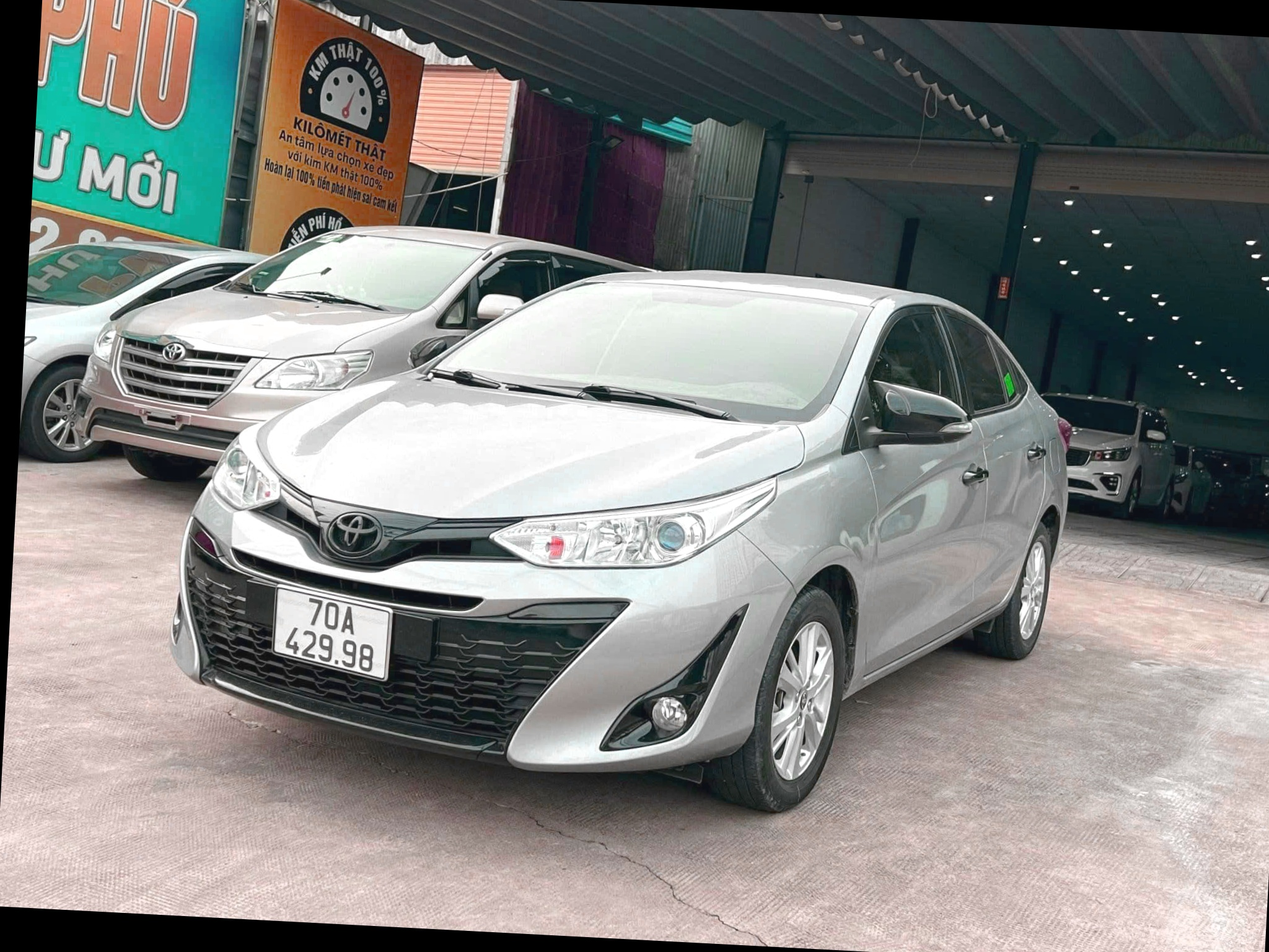Bien-so: (264, 586, 402, 680)
